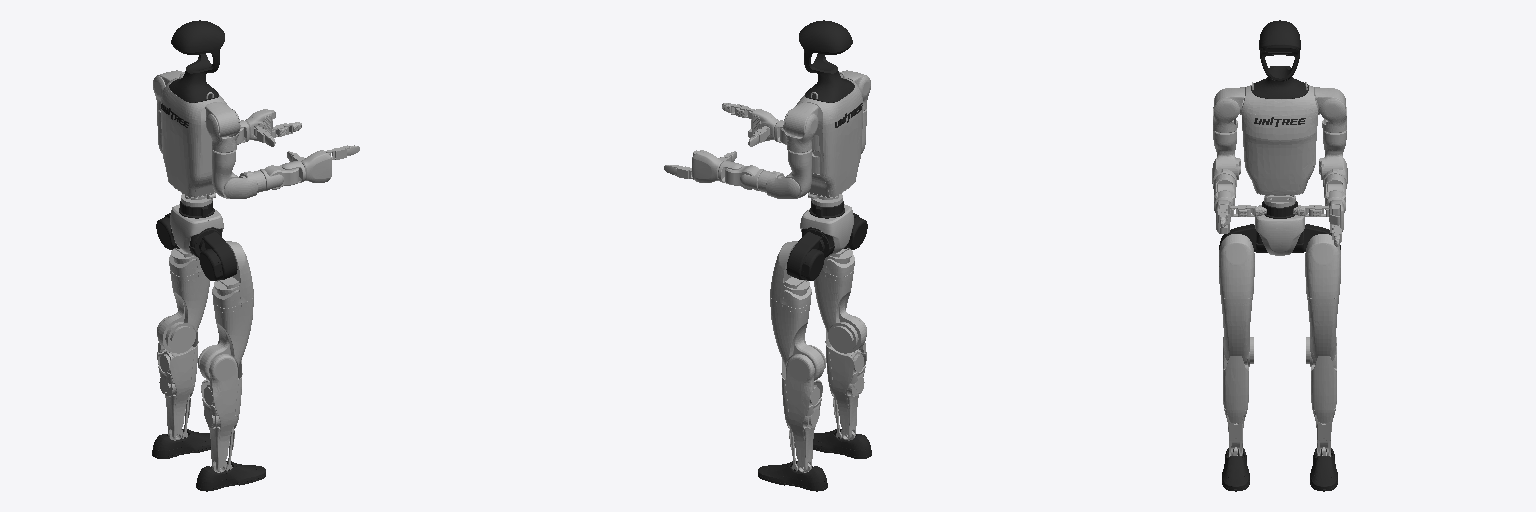
--- Facts derived from the render (not from the file) ---
3 views of the same robot in one strip: view 1: azimuth 30°, elevation 25°; view 2: azimuth 150°, elevation 25°; view 3: azimuth 270°, elevation 25° (orthographic).
Robot: g1 — 53 links, 52 joints (43 revolute, 9 fixed); root link pelvis; default pose: every joint at zero.
Visible links, largest first — view 1: torso_link, right_knee_link, head_link, left_knee_link, left_hip_yaw_link, right_hip_yaw_link, right_hip_roll_link, right_hip_pitch_link, right_ankle_roll_link, pelvis_contour_link, left_ankle_roll_link, right_elbow_link (+7 smaller); view 2: torso_link, left_knee_link, head_link, right_knee_link, right_hip_yaw_link, left_hip_yaw_link, left_hip_roll_link, left_hip_pitch_link, left_ankle_roll_link, pelvis_contour_link, right_ankle_roll_link, left_elbow_link (+7 smaller); view 3: torso_link, head_link, right_hip_roll_link, left_hip_roll_link, left_knee_link, right_knee_link, left_hip_yaw_link, right_hip_yaw_link, pelvis_contour_link, left_ankle_roll_link, right_ankle_roll_link, left_shoulder_yaw_link (+4 smaller).
Link boxes in pixels (x1,y1,x2,y2): torso_link: (161, 72, 227, 197); right_knee_link: (201, 354, 242, 472); head_link: (169, 20, 224, 102); left_knee_link: (157, 316, 198, 439); left_hip_yaw_link: (158, 270, 209, 353); right_hip_yaw_link: (198, 297, 253, 380); right_hip_roll_link: (212, 241, 253, 308); right_hip_pitch_link: (199, 232, 237, 280); right_ankle_roll_link: (196, 461, 265, 491); pelvis_contour_link: (170, 204, 223, 255); left_ankle_roll_link: (152, 429, 210, 458); right_elbow_link: (224, 170, 265, 198); torso_link: (796, 72, 862, 197); left_knee_link: (781, 354, 822, 472); head_link: (799, 20, 854, 102); right_knee_link: (825, 316, 866, 439); right_hip_yaw_link: (814, 270, 865, 353); left_hip_yaw_link: (770, 297, 825, 380); left_hip_roll_link: (770, 241, 811, 308); left_hip_pitch_link: (786, 232, 824, 280); left_ankle_roll_link: (758, 461, 827, 491); pelvis_contour_link: (800, 204, 853, 255); right_ankle_roll_link: (813, 429, 871, 458); left_elbow_link: (758, 170, 799, 198); torso_link: (1240, 82, 1319, 195); head_link: (1251, 20, 1308, 98); right_hip_roll_link: (1219, 234, 1254, 298); left_hip_roll_link: (1305, 234, 1340, 298); left_knee_link: (1311, 337, 1336, 456); right_knee_link: (1223, 337, 1248, 456); left_hip_yaw_link: (1306, 297, 1338, 366); right_hip_yaw_link: (1221, 297, 1253, 366); pelvis_contour_link: (1255, 205, 1304, 255); left_ankle_roll_link: (1310, 448, 1337, 491); right_ankle_roll_link: (1222, 448, 1249, 491); left_shoulder_yaw_link: (1319, 130, 1346, 179).
Size in the robot's own frame: 0.4893 by 0.3632 by 1.32 metres.
45 mesh visuals loaded from 49 distinct referenced files (45 binary STL); not drawn: 4 (reference not matched to a file when rendering).

The robot description file, URDF, robot "g1":
<robot name="g1">
  <mujoco>
    <compiler meshdir="meshes" discardvisual="false"/>
  </mujoco>

  <!-- [CAUTION] uncomment when convert to mujoco -->
  <!-- <link name="world"></link>
  <joint name="floating_base_joint" type="floating">
    <parent link="world"/>
    <child link="pelvis"/>
  </joint> -->

  <link name="pelvis">
    <inertial>
      <origin xyz="0 0 -0.07605" rpy="0 0 0"/>
      <mass value="3.813"/>
      <inertia ixx="0.010549" ixy="0" ixz="2.1E-06" iyy="0.0093089" iyz="0" izz="0.0079184"/>
    </inertial>
    <visual>
      <origin xyz="0 0 0" rpy="0 0 0"/>
      <geometry>
        <mesh filename="meshes/pelvis.STL"/>
      </geometry>
      <material name="dark">
        <color rgba="0.2 0.2 0.2 1"/>
      </material>
    </visual>
  </link>
  <link name="pelvis_contour_link">
    <inertial>
      <origin xyz="0 0 0" rpy="0 0 0"/>
      <mass value="0.001"/>
      <inertia ixx="1e-7" ixy="0" ixz="0" iyy="1e-7" iyz="0" izz="1e-7"/>
    </inertial>
    <visual>
      <origin xyz="0 0 0" rpy="0 0 0"/>
      <geometry>
        <mesh filename="meshes/pelvis_contour_link.STL"/>
      </geometry>
      <material name="white">
        <color rgba="0.7 0.7 0.7 1"/>
      </material>
    </visual>
    <collision>
      <origin xyz="0 0 0" rpy="0 0 0"/>
      <geometry>
        <mesh filename="meshes/pelvis_contour_link.STL"/>
      </geometry>
    </collision>
  </link>
  <joint name="pelvis_contour_joint" type="fixed">
    <parent link="pelvis"/>
    <child link="pelvis_contour_link"/>
  </joint>

  <!-- Legs -->
  <link name="left_hip_pitch_link">
    <inertial>
      <origin xyz="0.002741 0.047791 -0.02606" rpy="0 0 0"/>
      <mass value="1.35"/>
      <inertia ixx="0.001811" ixy="3.68E-05" ixz="-3.44E-05" iyy="0.0014193" iyz="0.000171" izz="0.0012812"/>
    </inertial>
    <visual>
      <origin xyz="0 0 0" rpy="0 0 0"/>
      <geometry>
        <mesh filename="meshes/left_hip_pitch_link.STL"/>
      </geometry>
      <material name="dark">
        <color rgba="0.2 0.2 0.2 1"/>
      </material>
    </visual>
    <collision>
      <origin xyz="0 0 0" rpy="0 0 0"/>
      <geometry>
        <mesh filename="meshes/left_hip_pitch_link.STL"/>
      </geometry>
    </collision>
  </link>
  <joint name="left_hip_pitch_joint" type="revolute">
    <origin xyz="0 0.064452 -0.1027" rpy="0 0 0"/>
    <parent link="pelvis"/>
    <child link="left_hip_pitch_link"/>
    <axis xyz="0 1 0"/>
    <limit lower="-2.5307" upper="2.8798" effort="88" velocity="32"/>
  </joint>
  <link name="left_hip_roll_link">
    <inertial>
      <origin xyz="0.029812 -0.001045 -0.087934" rpy="0 0 0"/>
      <mass value="1.52"/>
      <inertia ixx="0.0023773" ixy="-3.8E-06" ixz="-0.0003908" iyy="0.0024123" iyz="1.84E-05" izz="0.0016595"/>
    </inertial>
    <visual>
      <origin xyz="0 0 0" rpy="0 0 0"/>
      <geometry>
        <mesh filename="meshes/left_hip_roll_link.STL"/>
      </geometry>
      <material name="white">
        <color rgba="0.7 0.7 0.7 1"/>
      </material>
    </visual>
    <collision>
      <origin xyz="0 0 0" rpy="0 0 0"/>
      <geometry>
        <mesh filename="meshes/left_hip_roll_link.STL"/>
      </geometry>
    </collision>
  </link>
  <joint name="left_hip_roll_joint" type="revolute">
    <origin xyz="0 0.052 -0.030465" rpy="0 -0.1749 0"/>
    <parent link="left_hip_pitch_link"/>
    <child link="left_hip_roll_link"/>
    <axis xyz="1 0 0"/>
    <limit lower="-0.5236" upper="2.9671" effort="139" velocity="20"/>
  </joint>
  <link name="left_hip_yaw_link">
    <inertial>
      <origin xyz="-0.057709 -0.010981 -0.15078" rpy="0 0 0"/>
      <mass value="1.702"/>
      <inertia ixx="0.0057774" ixy="-0.0005411" ixz="-0.0023948" iyy="0.0076124" iyz="-0.0007072" izz="0.003149"/>
    </inertial>
    <visual>
      <origin xyz="0 0 0" rpy="0 0 0"/>
      <geometry>
        <mesh filename="meshes/left_hip_yaw_link.STL"/>
      </geometry>
      <material name="white">
        <color rgba="0.7 0.7 0.7 1"/>
      </material>
    </visual>
    <collision>
      <origin xyz="0 0 0" rpy="0 0 0"/>
      <geometry>
        <mesh filename="meshes/left_hip_yaw_link.STL"/>
      </geometry>
    </collision>
  </link>
  <joint name="left_hip_yaw_joint" type="revolute">
    <origin xyz="0.025001 0 -0.12412" rpy="0 0 0"/>
    <parent link="left_hip_roll_link"/>
    <child link="left_hip_yaw_link"/>
    <axis xyz="0 0 1"/>
    <limit lower="-2.7576" upper="2.7576" effort="88" velocity="32"/>
  </joint>
  <link name="left_knee_link">
    <inertial>
      <origin xyz="0.005457 0.003964 -0.12074" rpy="0 0 0"/>
      <mass value="1.932"/>
      <inertia ixx="0.011329" ixy="4.82E-05" ixz="-4.49E-05" iyy="0.011277" iyz="-0.0007146" izz="0.0015168"/>
    </inertial>
    <visual>
      <origin xyz="0 0 0" rpy="0 0 0"/>
      <geometry>
        <mesh filename="meshes/left_knee_link.STL"/>
      </geometry>
      <material name="white">
        <color rgba="0.7 0.7 0.7 1"/>
      </material>
    </visual>
    <collision>
      <origin xyz="0 0 0" rpy="0 0 0"/>
      <geometry>
        <mesh filename="meshes/left_knee_link.STL"/>
      </geometry>
    </collision>
  </link>
  <joint name="left_knee_joint" type="revolute">
    <origin xyz="-0.078273 0.0021489 -0.17734" rpy="0 0.1749 0"/>
    <parent link="left_hip_yaw_link"/>
    <child link="left_knee_link"/>
    <axis xyz="0 1 0"/>
    <limit lower="-0.087267" upper="2.8798" effort="139" velocity="20"/>
  </joint>
  <link name="left_ankle_pitch_link">
    <inertial>
      <origin xyz="-0.007269 0 0.011137" rpy="0 0 0"/>
      <mass value="0.074"/>
      <inertia ixx="8.4E-06" ixy="0" ixz="-2.9E-06" iyy="1.89E-05" iyz="0" izz="1.26E-05"/>
    </inertial>
    <visual>
      <origin xyz="0 0 0" rpy="0 0 0"/>
      <geometry>
        <mesh filename="meshes/left_ankle_pitch_link.STL"/>
      </geometry>
      <material name="white">
        <color rgba="0.7 0.7 0.7 1"/>
      </material>
    </visual>
    <collision>
      <origin xyz="0 0 0" rpy="0 0 0"/>
      <geometry>
        <mesh filename="meshes/left_ankle_pitch_link.STL"/>
      </geometry>
    </collision>
  </link>
  <joint name="left_ankle_pitch_joint" type="revolute">
    <origin xyz="0 -9.4445E-05 -0.30001" rpy="0 0 0"/>
    <parent link="left_knee_link"/>
    <child link="left_ankle_pitch_link"/>
    <axis xyz="0 1 0"/>
    <limit lower="-0.87267" upper="0.5236" effort="50" velocity="37"/>
  </joint>
  <link name="left_ankle_roll_link">
    <inertial>
      <origin xyz="0.026505 0 -0.016425" rpy="0 0 0"/>
      <mass value="0.608"/>
      <inertia ixx="0.0002231" ixy="2E-07" ixz="8.91E-05" iyy="0.0016161" iyz="-1E-07" izz="0.0016667"/>
    </inertial>
    <visual>
      <origin xyz="0 0 0" rpy="0 0 0"/>
      <geometry>
        <mesh filename="meshes/left_ankle_roll_link.STL"/>
      </geometry>
      <material name="dark">
        <color rgba="0.2 0.2 0.2 1"/>
      </material>
    </visual>
    <collision>
      <origin xyz="-0.05 0.025 -0.03" rpy="0 0 0"/>
      <geometry>
        <sphere radius="0.005"/>
      </geometry>
    </collision>
    <collision>
      <origin xyz="-0.05 -0.025 -0.03" rpy="0 0 0"/>
      <geometry>
        <sphere radius="0.005"/>
      </geometry>
    </collision>
    <collision>
      <origin xyz="0.12 0.03 -0.03" rpy="0 0 0"/>
      <geometry>
        <sphere radius="0.005"/>
      </geometry>
    </collision>
    <collision>
      <origin xyz="0.12 -0.03 -0.03" rpy="0 0 0"/>
      <geometry>
        <sphere radius="0.005"/>
      </geometry>
    </collision>
  </link>
  <joint name="left_ankle_roll_joint" type="revolute">
    <origin xyz="0 0 -0.017558" rpy="0 0 0"/>
    <parent link="left_ankle_pitch_link"/>
    <child link="left_ankle_roll_link"/>
    <axis xyz="1 0 0"/>
    <limit lower="-0.2618" upper="0.2618" effort="50" velocity="37"/>
  </joint>
  <link name="right_hip_pitch_link">
    <inertial>
      <origin xyz="0.002741 -0.047791 -0.02606" rpy="0 0 0"/>
      <mass value="1.35"/>
      <inertia ixx="0.001811" ixy="-3.68E-05" ixz="-3.44E-05" iyy="0.0014193" iyz="-0.000171" izz="0.0012812"/>
    </inertial>
    <visual>
      <origin xyz="0 0 0" rpy="0 0 0"/>
      <geometry>
        <mesh filename="meshes/right_hip_pitch_link.STL"/>
      </geometry>
      <material name="dark">
        <color rgba="0.2 0.2 0.2 1"/>
      </material>
    </visual>
    <collision>
      <origin xyz="0 0 0" rpy="0 0 0"/>
      <geometry>
        <mesh filename="meshes/right_hip_pitch_link.STL"/>
      </geometry>
    </collision>
  </link>
  <joint name="right_hip_pitch_joint" type="revolute">
    <origin xyz="0 -0.064452 -0.1027" rpy="0 0 0"/>
    <parent link="pelvis"/>
    <child link="right_hip_pitch_link"/>
    <axis xyz="0 1 0"/>
    <limit lower="-2.5307" upper="2.8798" effort="88" velocity="32"/>
  </joint>
  <link name="right_hip_roll_link">
    <inertial>
      <origin xyz="0.029812 0.001045 -0.087934" rpy="0 0 0"/>
      <mass value="1.52"/>
      <inertia ixx="0.0023773" ixy="3.8E-06" ixz="-0.0003908" iyy="0.0024123" iyz="-1.84E-05" izz="0.0016595"/>
    </inertial>
    <visual>
      <origin xyz="0 0 0" rpy="0 0 0"/>
      <geometry>
        <mesh filename="meshes/right_hip_roll_link.STL"/>
      </geometry>
      <material name="white">
        <color rgba="0.7 0.7 0.7 1"/>
      </material>
    </visual>
    <collision>
      <origin xyz="0 0 0" rpy="0 0 0"/>
      <geometry>
        <mesh filename="meshes/right_hip_roll_link.STL"/>
      </geometry>
    </collision>
  </link>
  <joint name="right_hip_roll_joint" type="revolute">
    <origin xyz="0 -0.052 -0.030465" rpy="0 -0.1749 0"/>
    <parent link="right_hip_pitch_link"/>
    <child link="right_hip_roll_link"/>
    <axis xyz="1 0 0"/>
    <limit lower="-2.9671" upper="0.5236" effort="139" velocity="20"/>
  </joint>
  <link name="right_hip_yaw_link">
    <inertial>
      <origin xyz="-0.057709 0.010981 -0.15078" rpy="0 0 0"/>
      <mass value="1.702"/>
      <inertia ixx="0.0057774" ixy="0.0005411" ixz="-0.0023948" iyy="0.0076124" iyz="0.0007072" izz="0.003149"/>
    </inertial>
    <visual>
      <origin xyz="0 0 0" rpy="0 0 0"/>
      <geometry>
        <mesh filename="meshes/right_hip_yaw_link.STL"/>
      </geometry>
      <material name="white">
        <color rgba="0.7 0.7 0.7 1"/>
      </material>
    </visual>
    <collision>
      <origin xyz="0 0 0" rpy="0 0 0"/>
      <geometry>
        <mesh filename="meshes/right_hip_yaw_link.STL"/>
      </geometry>
    </collision>
  </link>
  <joint name="right_hip_yaw_joint" type="revolute">
    <origin xyz="0.025001 0 -0.12412" rpy="0 0 0"/>
    <parent link="right_hip_roll_link"/>
    <child link="right_hip_yaw_link"/>
    <axis xyz="0 0 1"/>
    <limit lower="-2.7576" upper="2.7576" effort="88" velocity="32"/>
  </joint>
  <link name="right_knee_link">
    <inertial>
      <origin xyz="0.005457 -0.003964 -0.12074" rpy="0 0 0"/>
      <mass value="1.932"/>
      <inertia ixx="0.011329" ixy="-4.82E-05" ixz="4.49E-05" iyy="0.011277" iyz="0.0007146" izz="0.0015168"/>
    </inertial>
    <visual>
      <origin xyz="0 0 0" rpy="0 0 0"/>
      <geometry>
        <mesh filename="meshes/right_knee_link.STL"/>
      </geometry>
      <material name="white">
        <color rgba="0.7 0.7 0.7 1"/>
      </material>
    </visual>
    <collision>
      <origin xyz="0 0 0" rpy="0 0 0"/>
      <geometry>
        <mesh filename="meshes/right_knee_link.STL"/>
      </geometry>
    </collision>
  </link>
  <joint name="right_knee_joint" type="revolute">
    <origin xyz="-0.078273 -0.0021489 -0.17734" rpy="0 0.1749 0"/>
    <parent link="right_hip_yaw_link"/>
    <child link="right_knee_link"/>
    <axis xyz="0 1 0"/>
    <limit lower="-0.087267" upper="2.8798" effort="139" velocity="20"/>
  </joint>
  <link name="right_ankle_pitch_link">
    <inertial>
      <origin xyz="-0.007269 0 0.011137" rpy="0 0 0"/>
      <mass value="0.074"/>
      <inertia ixx="8.4E-06" ixy="0" ixz="-2.9E-06" iyy="1.89E-05" iyz="0" izz="1.26E-05"/>
    </inertial>
    <visual>
      <origin xyz="0 0 0" rpy="0 0 0"/>
      <geometry>
        <mesh filename="meshes/right_ankle_pitch_link.STL"/>
      </geometry>
      <material name="white">
        <color rgba="0.7 0.7 0.7 1"/>
      </material>
    </visual>
    <collision>
      <origin xyz="0 0 0" rpy="0 0 0"/>
      <geometry>
        <mesh filename="meshes/right_ankle_pitch_link.STL"/>
      </geometry>
    </collision>
  </link>
  <joint name="right_ankle_pitch_joint" type="revolute">
    <origin xyz="0 9.4445E-05 -0.30001" rpy="0 0 0"/>
    <parent link="right_knee_link"/>
    <child link="right_ankle_pitch_link"/>
    <axis xyz="0 1 0"/>
    <limit lower="-0.87267" upper="0.5236" effort="50" velocity="37"/>
  </joint>
  <link name="right_ankle_roll_link">
    <inertial>
      <origin xyz="0.026505 0 -0.016425" rpy="0 0 0"/>
      <mass value="0.608"/>
      <inertia ixx="0.0002231" ixy="-2E-07" ixz="8.91E-05" iyy="0.0016161" iyz="1E-07" izz="0.0016667"/>
    </inertial>
    <visual>
      <origin xyz="0 0 0" rpy="0 0 0"/>
      <geometry>
        <mesh filename="meshes/right_ankle_roll_link.STL"/>
      </geometry>
      <material name="dark">
        <color rgba="0.2 0.2 0.2 1"/>
      </material>
    </visual>
    <collision>
      <origin xyz="-0.05 0.025 -0.03" rpy="0 0 0"/>
      <geometry>
        <sphere radius="0.005"/>
      </geometry>
    </collision>
    <collision>
      <origin xyz="-0.05 -0.025 -0.03" rpy="0 0 0"/>
      <geometry>
        <sphere radius="0.005"/>
      </geometry>
    </collision>
    <collision>
      <origin xyz="0.12 0.03 -0.03" rpy="0 0 0"/>
      <geometry>
        <sphere radius="0.005"/>
      </geometry>
    </collision>
    <collision>
      <origin xyz="0.12 -0.03 -0.03" rpy="0 0 0"/>
      <geometry>
        <sphere radius="0.005"/>
      </geometry>
    </collision>
  </link>
  <joint name="right_ankle_roll_joint" type="revolute">
    <origin xyz="0 0 -0.017558" rpy="0 0 0"/>
    <parent link="right_ankle_pitch_link"/>
    <child link="right_ankle_roll_link"/>
    <axis xyz="1 0 0"/>
    <limit lower="-0.2618" upper="0.2618" effort="50" velocity="37"/>
  </joint>

  <!-- Torso -->
  <link name="waist_yaw_link">
    <inertial>
      <origin xyz="0.003494 0.000233 0.018034" rpy="0 0 0"/>
      <mass value="0.214"/>
      <inertia ixx="0.00010673" ixy="2.703E-06" ixz="-7.631E-06" iyy="0.00010422" iyz="-2.01E-07" izz="0.0001625"/>
    </inertial>
    <visual>
      <origin xyz="0 0 0" rpy="0 0 0"/>
      <geometry>
        <mesh filename="meshes/waist_yaw_link_rev_1_0.STL"/>
      </geometry>
      <material name="white">
        <color rgba="0.7 0.7 0.7 1"/>
      </material>
    </visual>
  </link>
  <joint name="waist_yaw_joint" type="revolute">
    <origin xyz="0 0 0" rpy="0 0 0"/>
    <parent link="pelvis"/>
    <child link="waist_yaw_link"/>
    <axis xyz="0 0 1"/>
    <limit lower="-2.618" upper="2.618" effort="88" velocity="32"/>
  </joint>
  <link name="waist_roll_link">
    <inertial>
      <origin xyz="0 2.3E-05 0" rpy="0 0 0"/>
      <mass value="0.086"/>
      <inertia ixx="7.079E-06" ixy="0" ixz="0" iyy="6.339E-06" iyz="0" izz="8.245E-06"/>
    </inertial>
    <visual>
      <origin xyz="0 0 0" rpy="0 0 0"/>
      <geometry>
        <mesh filename="meshes/waist_roll_link_rev_1_0.STL"/>
      </geometry>
      <material name="white">
        <color rgba="0.7 0.7 0.7 1"/>
      </material>
    </visual>
  </link>
  <joint name="waist_roll_joint" type="revolute">
    <origin xyz="-0.0039635 0 0.044" rpy="0 0 0"/>
    <parent link="waist_yaw_link"/>
    <child link="waist_roll_link"/>
    <axis xyz="1 0 0"/>
    <limit lower="-0.52" upper="0.52" effort="50" velocity="37"/>
  </joint>
  <link name="torso_link">
    <inertial>
      <origin xyz="0.000931 0.000346 0.15082" rpy="0 0 0"/>
      <mass value="6.78"/>
      <inertia ixx="0.05905" ixy="3.3302E-05" ixz="-0.0017715" iyy="0.047014" iyz="-2.2399E-05" izz="0.025652"/>
    </inertial>
    <visual>
      <origin xyz="0 0 0" rpy="0 0 0"/>
      <geometry>
        <mesh filename="meshes/torso_link_rev_1_0.STL"/>
      </geometry>
      <material name="white">
        <color rgba="0.7 0.7 0.7 1"/>
      </material>
    </visual>
    <collision>
      <origin xyz="0 0 0" rpy="0 0 0"/>
      <geometry>
        <mesh filename="meshes/torso_link_rev_1_0.STL"/>
      </geometry>
    </collision>
  </link>
  <joint name="waist_pitch_joint" type="revolute">
    <origin xyz="0 0 0" rpy="0 0 0"/>
    <parent link="waist_roll_link"/>
    <child link="torso_link"/>
    <axis xyz="0 1 0"/>
    <limit lower="-0.52" upper="0.52" effort="50" velocity="37"/>
  </joint>

  <!-- LOGO -->
  <joint name="logo_joint" type="fixed">
    <origin xyz="0.0039635 0 -0.044" rpy="0 0 0"/>
    <parent link="torso_link"/>
    <child link="logo_link"/>
  </joint>
  <link name="logo_link">
    <inertial>
      <origin xyz="0 0 0" rpy="0 0 0"/>
      <mass value="0.001"/>
      <inertia ixx="1e-7" ixy="0" ixz="0" iyy="1e-7" iyz="0" izz="1e-7"/>
    </inertial>
    <visual>
      <origin xyz="0 0 0" rpy="0 0 0"/>
      <geometry>
        <mesh filename="meshes/logo_link.STL"/>
      </geometry>
      <material name="dark">
        <color rgba="0.2 0.2 0.2 1"/>
      </material>
    </visual>
    <collision>
      <origin xyz="0 0 0" rpy="0 0 0"/>
      <geometry>
        <mesh filename="meshes/logo_link.STL"/>
      </geometry>
    </collision>
  </link>

  <!-- Head -->
  <link name="head_link">
    <inertial>
      <origin xyz="0.005267 0.000299 0.449869" rpy="0 0 0"/>
      <mass value="1.036"/>
      <inertia ixx="0.004085051" ixy="-2.543E-06" ixz="-6.9455E-05" iyy="0.004185212" iyz="-3.726E-06" izz="0.001807911"/>
    </inertial>
    <visual>
      <origin xyz="0 0 0" rpy="0 0 0"/>
      <geometry>
        <mesh filename="meshes/head_link.STL"/>
      </geometry>
      <material name="dark">
        <color rgba="0.2 0.2 0.2 1"/>
      </material>
    </visual>
    <collision>
      <origin xyz="0 0 0" rpy="0 0 0"/>
      <geometry>
        <mesh filename="meshes/head_link.STL"/>
      </geometry>
    </collision>
  </link>
  <joint name="head_joint" type="fixed">
    <origin xyz="0.0039635 0 -0.044" rpy="0 0 0"/>
    <parent link="torso_link"/>
    <child link="head_link"/>
  </joint>


  <!-- IMU -->
  <link name="imu_in_torso"></link>
  <joint name="imu_in_torso_joint" type="fixed">
    <origin xyz="-0.03959 -0.00224 0.14792" rpy="0 0 0"/>
    <parent link="torso_link"/>
    <child link="imu_in_torso"/>
  </joint>

  <link name="imu_in_pelvis"></link>
  <joint name="imu_in_pelvis_joint" type="fixed">
    <origin xyz="0.04525 0 -0.08339" rpy="0 0 0"/>
    <parent link="pelvis"/>
    <child link="imu_in_pelvis"/>
  </joint>

  <!-- d435 -->
  <link name="d435_link"></link>
  <joint name="d435_joint" type="fixed">
    <origin xyz="0.0576235 0.01753 0.42987" rpy="0 0.8307767239493009 0"/>
    <parent link="torso_link"/>
    <child link="d435_link"/>
  </joint>

  <!-- mid360 -->
  <link name="mid360_link"></link>
  <joint name="mid360_joint" type="fixed">
    <origin xyz="0.0002835 0.00003 0.41618" rpy="0 0.04014257279586953 0"/>
    <parent link="torso_link"/>
    <child link="mid360_link"/>
  </joint>

  <!-- Arm -->
  <link name="left_shoulder_pitch_link">
    <inertial>
      <origin xyz="0 0.035892 -0.011628" rpy="0 0 0"/>
      <mass value="0.718"/>
      <inertia ixx="0.0004291" ixy="-9.2E-06" ixz="6.4E-06" iyy="0.000453" iyz="2.26E-05" izz="0.000423"/>
    </inertial>
    <visual>
      <origin xyz="0 0 0" rpy="0 0 0"/>
      <geometry>
        <mesh filename="meshes/left_shoulder_pitch_link.STL"/>
      </geometry>
      <material name="white">
        <color rgba="0.7 0.7 0.7 1"/>
      </material>
    </visual>
    <collision>
      <origin xyz="0 0.04 -0.01" rpy="0 1.5707963267948966 0"/>
      <geometry>
        <cylinder radius="0.03" length="0.05"/>
      </geometry>
    </collision>
  </link>
  <joint name="left_shoulder_pitch_joint" type="revolute">
    <origin xyz="0.0039563 0.10022 0.24778" rpy="0.27931 5.4949E-05 -0.00019159"/>
    <parent link="torso_link"/>
    <child link="left_shoulder_pitch_link"/>
    <axis xyz="0 1 0"/>
    <limit lower="-3.0892" upper="2.6704" effort="25" velocity="37"/>
  </joint>
  <link name="left_shoulder_roll_link">
    <inertial>
      <origin xyz="-0.000227 0.00727 -0.063243" rpy="0 0 0"/>
      <mass value="0.643"/>
      <inertia ixx="0.0006177" ixy="-1E-06" ixz="8.7E-06" iyy="0.0006912" iyz="-5.3E-06" izz="0.0003894"/>
    </inertial>
    <visual>
      <origin xyz="0 0 0" rpy="0 0 0"/>
      <geometry>
        <mesh filename="meshes/left_shoulder_roll_link.STL"/>
      </geometry>
      <material name="white">
        <color rgba="0.7 0.7 0.7 1"/>
      </material>
    </visual>
    <collision>
      <origin xyz="-0.004 0.006 -0.053" rpy="0 0 0"/>
      <geometry>
        <cylinder radius="0.03" length="0.03"/>
      </geometry>
    </collision>
  </link>
  <joint name="left_shoulder_roll_joint" type="revolute">
    <origin xyz="0 0.038 -0.013831" rpy="-0.27925 0 0"/>
    <parent link="left_shoulder_pitch_link"/>
    <child link="left_shoulder_roll_link"/>
    <axis xyz="1 0 0"/>
    <limit lower="-1.5882" upper="2.2515" effort="25" velocity="37"/>
  </joint>
  <link name="left_shoulder_yaw_link">
    <inertial>
      <origin xyz="0.010773 -0.002949 -0.072009" rpy="0 0 0"/>
      <mass value="0.734"/>
      <inertia ixx="0.0009988" ixy="7.9E-06" ixz="0.0001412" iyy="0.0010605" iyz="-2.86E-05" izz="0.0004354"/>
    </inertial>
    <visual>
      <origin xyz="0 0 0" rpy="0 0 0"/>
      <geometry>
        <mesh filename="meshes/left_shoulder_yaw_link.STL"/>
      </geometry>
      <material name="white">
        <color rgba="0.7 0.7 0.7 1"/>
      </material>
    </visual>
    <collision>
      <origin xyz="0 0 0" rpy="0 0 0"/>
      <geometry>
        <mesh filename="meshes/left_shoulder_yaw_link.STL"/>
      </geometry>
    </collision>
  </link>
  <joint name="left_shoulder_yaw_joint" type="revolute">
    <origin xyz="0 0.00624 -0.1032" rpy="0 0 0"/>
    <parent link="left_shoulder_roll_link"/>
    <child link="left_shoulder_yaw_link"/>
    <axis xyz="0 0 1"/>
    <limit lower="-2.618" upper="2.618" effort="25" velocity="37"/>
  </joint>
  <link name="left_elbow_link">
    <inertial>
      <origin xyz="0.064956 0.004454 -0.010062" rpy="0 0 0"/>
      <mass value="0.6"/>
      <inertia ixx="0.0002891" ixy="6.53E-05" ixz="1.72E-05" iyy="0.0004152" iyz="-5.6E-06" izz="0.0004197"/>
    </inertial>
    <visual>
      <origin xyz="0 0 0" rpy="0 0 0"/>
      <geometry>
        <mesh filename="meshes/left_elbow_link.STL"/>
      </geometry>
      <material name="white">
        <color rgba="0.7 0.7 0.7 1"/>
      </material>
    </visual>
    <collision>
      <origin xyz="0 0 0" rpy="0 0 0"/>
      <geometry>
        <mesh filename="meshes/left_elbow_link.STL"/>
      </geometry>
    </collision>
  </link>
  <joint name="left_elbow_joint" type="revolute">
    <origin xyz="0.015783 0 -0.080518" rpy="0 0 0"/>
    <parent link="left_shoulder_yaw_link"/>
    <child link="left_elbow_link"/>
    <axis xyz="0 1 0"/>
    <limit lower="-1.0472" upper="2.0944" effort="25" velocity="37"/>
  </joint>
  <joint name="left_wrist_roll_joint" type="revolute">
    <origin xyz="0.100 0.00188791 -0.010" rpy="0 0 0"/>
    <axis xyz="1 0 0"/>
    <parent link="left_elbow_link"/>
    <child link="left_wrist_roll_link"/>
    <limit effort="25" velocity="37" lower="-1.972222054" upper="1.972222054"/>
  </joint>
  <link name="left_wrist_roll_link">
    <inertial>
      <origin xyz="0.01713944778 0.00053759094 0.00000048864" rpy="0 0 0"/>
      <mass value="0.08544498"/>
      <inertia ixx="0.00004821544023" ixy="-0.00000424511021" ixz="0.00000000510599" iyy="0.00003722899093" iyz="-0.00000000123525" izz="0.00005482106541"/>
    </inertial>
    <visual>
      <origin xyz="0 0 0" rpy="0 0 0"/>
      <geometry>
        <mesh filename="meshes/left_wrist_roll_link.STL"/>
      </geometry>
      <material name="white">
        <color rgba="0.7 0.7 0.7 1"/>
      </material>
    </visual>
    <collision>
      <origin xyz="0 0 0" rpy="0 0 0"/>
      <geometry>
        <mesh filename="meshes/left_wrist_roll_link.STL"/>
      </geometry>
    </collision>
  </link>
  <joint name="left_wrist_pitch_joint" type="revolute">
    <origin xyz="0.038 0 0" rpy="0 0 0"/>
    <axis xyz="0 1 0"/>
    <parent link="left_wrist_roll_link"/>
    <child link="left_wrist_pitch_link"/>
    <limit effort="5" velocity="22" lower="-1.614429558" upper="1.614429558"/>
  </joint>
  <link name="left_wrist_pitch_link">
    <inertial>
      <origin xyz="0.02299989837 -0.00111685314 -0.00111658096" rpy="0 0 0"/>
      <mass value="0.48404956"/>
      <inertia ixx="0.00016579646273" ixy="-0.00001231206746" ixz="0.00001231699194" iyy="0.00042954057410" iyz="0.00000081417712" izz="0.00042953697654"/>
    </inertial>
    <visual>
      <origin xyz="0 0 0" rpy="0 0 0"/>
      <geometry>
        <mesh filename="meshes/left_wrist_pitch_link.STL"/>
      </geometry>
      <material name="white">
        <color rgba="0.7 0.7 0.7 1"/>
      </material>
    </visual>
    <collision>
      <origin xyz="0 0 0" rpy="0 0 0"/>
      <geometry>
        <mesh filename="meshes/left_wrist_pitch_link.STL"/>
      </geometry>
    </collision>
  </link>
  <joint name="left_wrist_yaw_joint" type="revolute">
    <origin xyz="0.046 0 0" rpy="0 0 0"/>
    <axis xyz="0 0 1"/>
    <parent link="left_wrist_pitch_link"/>
    <child link="left_wrist_yaw_link"/>
    <limit effort="5" velocity="22" lower="-1.614429558" upper="1.614429558"/>
  </joint>
  <link name="left_wrist_yaw_link">
    <inertial>
      <origin xyz="0.02200381568 0.00049485096 0.00053861123" rpy="0 0 0"/>
      <mass value="0.08457647"/>
      <inertia ixx="0.00004929128828" ixy="-0.00000045735494" ixz="0.00000445867591" iyy="0.00005973338134" iyz="0.00000043217198" izz="0.00003928083826"/>
    </inertial>
    <visual>
      <origin xyz="0 0 0" rpy="0 0 0"/>
      <geometry>
        <mesh filename="meshes/left_wrist_yaw_link.STL"/>
      </geometry>
      <material name="white">
        <color rgba="0.7 0.7 0.7 1"/>
      </material>
    </visual>
    <collision>
      <origin xyz="0 0 0" rpy="0 0 0"/>
      <geometry>
        <mesh filename="meshes/left_wrist_yaw_link.STL"/>
      </geometry>
    </collision>
  </link>
  <joint name="left_hand_palm_joint" type="fixed">
    <origin xyz="0.0415 0.003 0" rpy="0 0 0"/>
    <parent link="left_wrist_yaw_link"/>
    <child link="left_hand_palm_link"/>
  </joint>
  <link name="left_hand_palm_link">
    <inertial>
      <origin xyz="0.06214634836 -0.00050869656 -0.00058171093" rpy="0 0 0"/>
      <mass value="0.37283854"/>
      <inertia ixx="0.00027535181027" ixy="-0.00001595519465" ixz="-0.00000242161890" iyy="0.00053951827219" iyz="-0.00000042279435" izz="0.00039623390907"/>
    </inertial>
    <visual>
      <origin xyz="0 0 0" rpy="0 0 0"/>
      <geometry>
        <mesh filename="meshes/left_hand_palm_link.STL"/>
      </geometry>
      <material name="white">
        <color rgba="0.7 0.7 0.7 1"/>
      </material>
    </visual>
    <collision>
      <origin xyz="0 0 0" rpy="0 0 0"/>
      <geometry>
        <mesh filename="meshes/left_hand_palm_link.STL"/>
      </geometry>
    </collision>
  </link>
  <joint name="left_hand_thumb_0_joint" type="revolute">
    <origin xyz="0.0255 0 0" rpy="0 0 0"/>
    <axis xyz="0 1 0"/>
    <parent link="left_hand_palm_link"/>
    <child link="left_hand_thumb_0_link"/>
    <limit effort="2.45" velocity="6.857" lower="-1.04719755" upper="1.04719755"/>
  </joint>
  <link name="left_hand_thumb_0_link">
    <inertial>
      <origin xyz="-0.00088424580 -0.00863407079 0.00094429336" rpy="0 0 0"/>
      <mass value="0.08623657"/>
      <inertia ixx="0.00001602919238" ixy="0.00000010683177" ixz="0.00000016728875" iyy="0.00001451795012" iyz="-0.00000051094752" izz="0.00001637877663"/>
    </inertial>
    <visual>
      <origin xyz="0 0 0" rpy="0 0 0"/>
      <geometry>
        <mesh filename="meshes/left_hand_thumb_0_link.STL"/>
      </geometry>
      <material name="white">
        <color rgba="0.7 0.7 0.7 1"/>
      </material>
    </visual>
    <collision>
      <origin xyz="0 0 0" rpy="0 0 0"/>
      <geometry>
        <mesh filename="meshes/left_hand_thumb_0_link.STL"/>
      </geometry>
    </collision>
  </link>
  <joint name="left_hand_thumb_1_joint" type="revolute">
    <origin xyz="-0.0025 -0.0193 0" rpy="0 0 0"/>
    <axis xyz="0 0 1"/>
    <parent link="left_hand_thumb_0_link"/>
    <child link="left_hand_thumb_1_link"/>
    <limit effort="1.4" velocity="12" lower="-0.72431163" upper="1.04719755"/>
  </joint>
  <link name="left_hand_thumb_1_link">
    <inertial>
      <origin xyz="-0.00082788768 -0.03547435774 -0.00038089960" rpy="0 0 0"/>
      <mass value="0.05885070"/>
      <inertia ixx="0.00001274699945" ixy="-0.00000050770784" ixz="0.00000016088850" iyy="0.00000601573947" iyz="-0.00000027839003" izz="0.00001234543582"/>
    </inertial>
    <visual>
      <origin xyz="0 0 0" rpy="0 0 0"/>
      <geometry>
        <mesh filename="meshes/left_hand_thumb_1_link.STL"/>
      </geometry>
      <material name="white">
        <color rgba="0.7 0.7 0.7 1"/>
      </material>
    </visual>
    <collision>
      <origin xyz="-0.001 -0.032 0" rpy="0 0 0"/>
      <geometry>
        <box size="0.02 0.03 0.02"/>
      </geometry>
    </collision>
  </link>
  <joint name="left_hand_thumb_2_joint" type="revolute">
    <origin xyz="0 -0.0458 0" rpy="0 0 0"/>
    <axis xyz="0 0 1"/>
    <parent link="left_hand_thumb_1_link"/>
    <child link="left_hand_thumb_2_link"/>
    <limit effort="1.4" velocity="12" lower="0" upper="1.74532925"/>
  </joint>
  <link name="left_hand_thumb_2_link">
    <inertial>
      <origin xyz="-0.00171735242 -0.02628192939 0.00010778879" rpy="0 0 0"/>
      <mass value="0.02030626"/>
      <inertia ixx="0.00000461267817" ixy="-0.00000003422130" ixz="-0.00000000823881" iyy="0.00000153561368" iyz="-0.00000002549885" izz="0.00000386625776"/>
    </inertial>
    <visual>
      <origin xyz="0 0 0" rpy="0 0 0"/>
      <geometry>
        <mesh filename="meshes/left_hand_thumb_2_link.STL"/>
      </geometry>
      <material name="white">
        <color rgba="0.7 0.7 0.7 1"/>
      </material>
    </visual>
    <collision>
      <origin xyz="0 0 0" rpy="0 0 0"/>
      <geometry>
        <mesh filename="meshes/left_hand_thumb_2_link.STL"/>
      </geometry>
    </collision>
  </link>
  <joint name="left_hand_middle_0_joint" type="revolute">
    <origin xyz="0.0777 0.0016 -0.0285" rpy="0 0 0"/>
    <axis xyz="0 0 1"/>
    <parent link="left_hand_palm_link"/>
    <child link="left_hand_middle_0_link"/>
    <limit effort="1.4" velocity="12" lower="-1.57079632" upper="0"/>
  </joint>
  <link name="left_hand_middle_0_link">
    <inertial>
      <origin xyz="0.03547435774 0.00082788768 0.00038089960" rpy="0 0 0"/>
      <mass value="0.05885070"/>
      <inertia ixx="0.00000601573947" ixy="-0.00000050770784" ixz="-0.00000027839003" iyy="0.00001274699945" iyz="0.00000016088850" izz="0.00001234543582"/>
    </inertial>
    <visual>
      <origin xyz="0 0 0" rpy="0 0 0"/>
      <geometry>
        <mesh filename="meshes/left_hand_middle_0_link.STL"/>
      </geometry>
      <material name="white">
        <color rgba="0.7 0.7 0.7 1"/>
      </material>
    </visual>
    <collision>
      <origin xyz="0 0 0" rpy="0 0 0"/>
      <geometry>
        <mesh filename="meshes/left_hand_middle_0_link.STL"/>
      </geometry>
    </collision>
  </link>
  <joint name="left_hand_middle_1_joint" type="revolute">
    <origin xyz="0.0458 0 0" rpy="0 0 0"/>
    <axis xyz="0 0 1"/>
    <parent link="left_hand_middle_0_link"/>
    <child link="left_hand_middle_1_link"/>
    <limit effort="1.4" velocity="12" lower="-1.74532925" upper="0"/>
  </joint>
  <link name="left_hand_middle_1_link">
    <inertial>
      <origin xyz="0.02628192939 0.00171735242 -0.00010778879" rpy="0 0 0"/>
      <mass value="0.02030626"/>
      <inertia ixx="0.00000153561368" ixy="-0.00000003422130" ixz="-0.00000002549885" iyy="0.00000461267817" iyz="-0.00000000823881" izz="0.00000386625776"/>
    </inertial>
    <visual>
      <origin xyz="0 0 0" rpy="0 0 0"/>
      <geometry>
        <mesh filename="meshes/left_hand_middle_1_link.STL"/>
      </geometry>
      <material name="white">
        <color rgba="0.7 0.7 0.7 1"/>
      </material>
    </visual>
    <collision>
      <origin xyz="0 0 0" rpy="0 0 0"/>
      <geometry>
        <mesh filename="meshes/left_hand_middle_1_link.STL"/>
      </geometry>
    </collision>
  </link>
  <joint name="left_hand_index_0_joint" type="revolute">
    <origin xyz="0.0777 0.0016 0.0285" rpy="0 0 0"/>
    <axis xyz="0 0 1"/>
    <parent link="left_hand_palm_link"/>
    <child link="left_hand_index_0_link"/>
    <limit effort="1.4" velocity="12" lower="-1.57079632" upper="0"/>
  </joint>
  <link name="left_hand_index_0_link">
    <inertial>
      <origin xyz="0.03547435774 0.00082788768 0.00038089960" rpy="0 0 0"/>
      <mass value="0.05885070"/>
      <inertia ixx="0.00000601573947" ixy="-0.00000050770784" ixz="-0.00000027839003" iyy="0.00001274699945" iyz="0.00000016088850" izz="0.00001234543582"/>
    </inertial>
    <visual>
      <origin xyz="0 0 0" rpy="0 0 0"/>
      <geometry>
        <mesh filename="meshes/left_hand_index_0_link.STL"/>
      </geometry>
      <material name="white">
        <color rgba="0.7 0.7 0.7 1"/>
      </material>
    </visual>
    <collision>
      <origin xyz="0 0 0" rpy="0 0 0"/>
      <geometry>
        <mesh filename="meshes/left_hand_index_0_link.STL"/>
      </geometry>
    </collision>
  </link>
  <joint name="left_hand_index_1_joint" type="revolute">
    <origin xyz="0.0458 0 0" rpy="0 0 0"/>
    <axis xyz="0 0 1"/>
    <parent link="left_hand_index_0_link"/>
    <child link="left_hand_index_1_link"/>
    <limit effort="1.4" velocity="12" lower="-1.74532925" upper="0"/>
  </joint>
  <link name="left_hand_index_1_link">
    <inertial>
      <origin xyz="0.02628192939 0.00171735242 -0.00010778879" rpy="0 0 0"/>
      <mass value="0.02030626"/>
      <inertia ixx="0.00000153561368" ixy="-0.00000003422130" ixz="-0.00000002549885" iyy="0.00000461267817" iyz="-0.00000000823881" izz="0.00000386625776"/>
    </inertial>
    <visual>
      <origin xyz="0 0 0" rpy="0 0 0"/>
      <geometry>
        <mesh filename="meshes/left_hand_index_1_link.STL"/>
      </geometry>
      <material name="white">
        <color rgba="0.7 0.7 0.7 1"/>
      </material>
    </visual>
    <collision>
      <origin xyz="0 0 0" rpy="0 0 0"/>
      <geometry>
        <mesh filename="meshes/left_hand_index_1_link.STL"/>
      </geometry>
    </collision>
  </link>
  <link name="right_shoulder_pitch_link">
    <inertial>
      <origin xyz="0 -0.035892 -0.011628" rpy="0 0 0"/>
      <mass value="0.718"/>
      <inertia ixx="0.0004291" ixy="9.2E-06" ixz="6.4E-06" iyy="0.000453" iyz="-2.26E-05" izz="0.000423"/>
    </inertial>
    <visual>
      <origin xyz="0 0 0" rpy="0 0 0"/>
      <geometry>
        <mesh filename="meshes/right_shoulder_pitch_link.STL"/>
      </geometry>
      <material name="white">
        <color rgba="0.7 0.7 0.7 1"/>
      </material>
    </visual>
    <collision>
      <origin xyz="0 -0.04 -0.01" rpy="0 1.5707963267948966 0"/>
      <geometry>
        <cylinder radius="0.03" length="0.05"/>
      </geometry>
    </collision>
  </link>
  <joint name="right_shoulder_pitch_joint" type="revolute">
    <origin xyz="0.0039563 -0.10021 0.24778" rpy="-0.27931 5.4949E-05 0.00019159"/>
    <parent link="torso_link"/>
    <child link="right_shoulder_pitch_link"/>
    <axis xyz="0 1 0"/>
    <limit lower="-3.0892" upper="2.6704" effort="25" velocity="37"/>
  </joint>
  <link name="right_shoulder_roll_link">
    <inertial>
      <origin xyz="-0.000227 -0.00727 -0.063243" rpy="0 0 0"/>
      <mass value="0.643"/>
      <inertia ixx="0.0006177" ixy="1E-06" ixz="8.7E-06" iyy="0.0006912" iyz="5.3E-06" izz="0.0003894"/>
    </inertial>
    <visual>
      <origin xyz="0 0 0" rpy="0 0 0"/>
      <geometry>
        <mesh filename="meshes/right_shoulder_roll_link.STL"/>
      </geometry>
      <material name="white">
        <color rgba="0.7 0.7 0.7 1"/>
      </material>
    </visual>
    <collision>
      <origin xyz="-0.004 -0.006 -0.053" rpy="0 0 0"/>
      <geometry>
        <cylinder radius="0.03" length="0.03"/>
      </geometry>
    </collision>
  </link>
  <joint name="right_shoulder_roll_joint" type="revolute">
    <origin xyz="0 -0.038 -0.013831" rpy="0.27925 0 0"/>
    <parent link="right_shoulder_pitch_link"/>
    <child link="right_shoulder_roll_link"/>
    <axis xyz="1 0 0"/>
    <limit lower="-2.2515" upper="1.5882" effort="25" velocity="37"/>
  </joint>
  <link name="right_shoulder_yaw_link">
    <inertial>
      <origin xyz="0.010773 0.002949 -0.072009" rpy="0 0 0"/>
      <mass value="0.734"/>
      <inertia ixx="0.0009988" ixy="-7.9E-06" ixz="0.0001412" iyy="0.0010605" iyz="2.86E-05" izz="0.0004354"/>
    </inertial>
    <visual>
      <origin xyz="0 0 0" rpy="0 0 0"/>
      <geometry>
        <mesh filename="meshes/right_shoulder_yaw_link.STL"/>
      </geometry>
      <material name="white">
        <color rgba="0.7 0.7 0.7 1"/>
      </material>
    </visual>
    <collision>
      <origin xyz="0 0 0" rpy="0 0 0"/>
      <geometry>
        <mesh filename="meshes/right_shoulder_yaw_link.STL"/>
      </geometry>
    </collision>
  </link>
  <joint name="right_shoulder_yaw_joint" type="revolute">
    <origin xyz="0 -0.00624 -0.1032" rpy="0 0 0"/>
    <parent link="right_shoulder_roll_link"/>
    <child link="right_shoulder_yaw_link"/>
    <axis xyz="0 0 1"/>
    <limit lower="-2.618" upper="2.618" effort="25" velocity="37"/>
  </joint>
  <link name="right_elbow_link">
    <inertial>
      <origin xyz="0.064956 -0.004454 -0.010062" rpy="0 0 0"/>
      <mass value="0.6"/>
      <inertia ixx="0.0002891" ixy="-6.53E-05" ixz="1.72E-05" iyy="0.0004152" iyz="5.6E-06" izz="0.0004197"/>
    </inertial>
    <visual>
      <origin xyz="0 0 0" rpy="0 0 0"/>
      <geometry>
        <mesh filename="meshes/right_elbow_link.STL"/>
      </geometry>
      <material name="white">
        <color rgba="0.7 0.7 0.7 1"/>
      </material>
    </visual>
    <collision>
      <origin xyz="0 0 0" rpy="0 0 0"/>
      <geometry>
        <mesh filename="meshes/right_elbow_link.STL"/>
      </geometry>
    </collision>
  </link>
  <joint name="right_elbow_joint" type="revolute">
    <origin xyz="0.015783 0 -0.080518" rpy="0 0 0"/>
    <parent link="right_shoulder_yaw_link"/>
    <child link="right_elbow_link"/>
    <axis xyz="0 1 0"/>
    <limit lower="-1.0472" upper="2.0944" effort="25" velocity="37"/>
  </joint>
  <joint name="right_wrist_roll_joint" type="revolute">
    <origin xyz="0.100 -0.00188791 -0.010" rpy="0 0 0"/>
    <axis xyz="1 0 0"/>
    <parent link="right_elbow_link"/>
    <child link="right_wrist_roll_link"/>
    <limit effort="25" velocity="37" lower="-1.972222054" upper="1.972222054"/>
  </joint>
  <link name="right_wrist_roll_link">
    <inertial>
      <origin xyz="0.01713944778 -0.00053759094 0.00000048864" rpy="0 0 0"/>
      <mass value="0.08544498"/>
      <inertia ixx="0.00004821544023" ixy="0.00000424511021" ixz="0.00000000510599" iyy="0.00003722899093" iyz="0.00000000123525" izz="0.00005482106541"/>
    </inertial>
    <visual>
      <origin xyz="0 0 0" rpy="0 0 0"/>
      <geometry>
        <mesh filename="meshes/right_wrist_roll_link.STL"/>
      </geometry>
      <material name="white">
        <color rgba="0.7 0.7 0.7 1"/>
      </material>
    </visual>
    <collision>
      <origin xyz="0 0 0" rpy="0 0 0"/>
      <geometry>
        <mesh filename="meshes/right_wrist_roll_link.STL"/>
      </geometry>
    </collision>
  </link>
  <joint name="right_wrist_pitch_joint" type="revolute">
    <origin xyz="0.038 0 0" rpy="0 0 0"/>
    <axis xyz="0 1 0"/>
    <parent link="right_wrist_roll_link"/>
    <child link="right_wrist_pitch_link"/>
    <limit effort="5" velocity="22" lower="-1.614429558" upper="1.614429558"/>
  </joint>
  <link name="right_wrist_pitch_link">
    <inertial>
      <origin xyz="0.02299989837 0.00111685314 -0.00111658096" rpy="0 0 0"/>
      <mass value="0.48404956"/>
      <inertia ixx="0.00016579646273" ixy="0.00001231206746" ixz="0.00001231699194" iyy="0.00042954057410" iyz="-0.00000081417712" izz="0.00042953697654"/>
    </inertial>
    <visual>
      <origin xyz="0 0 0" rpy="0 0 0"/>
      <geometry>
        <mesh filename="meshes/right_wrist_pitch_link.STL"/>
      </geometry>
      <material name="white">
        <color rgba="0.7 0.7 0.7 1"/>
      </material>
    </visual>
    <collision>
      <origin xyz="0 0 0" rpy="0 0 0"/>
      <geometry>
        <mesh filename="meshes/right_wrist_pitch_link.STL"/>
      </geometry>
    </collision>
  </link>
  <joint name="right_wrist_yaw_joint" type="revolute">
    <origin xyz="0.046 0 0" rpy="0 0 0"/>
    <axis xyz="0 0 1"/>
    <parent link="right_wrist_pitch_link"/>
    <child link="right_wrist_yaw_link"/>
    <limit effort="5" velocity="22" lower="-1.614429558" upper="1.614429558"/>
  </joint>
  <link name="right_wrist_yaw_link">
    <inertial>
      <origin xyz="0.02200381568 -0.00049485096 0.00053861123" rpy="0 0 0"/>
      <mass value="0.08457647"/>
      <inertia ixx="0.00004929128828" ixy="0.00000045735494" ixz="0.00000445867591" iyy="0.00005973338134" iyz="-0.00000043217198" izz="0.00003928083826"/>
    </inertial>
    <visual>
      <origin xyz="0 0 0" rpy="0 0 0"/>
      <geometry>
        <mesh filename="meshes/right_wrist_yaw_link.STL"/>
      </geometry>
      <material name="white">
        <color rgba="0.7 0.7 0.7 1"/>
      </material>
    </visual>
    <collision>
      <origin xyz="0 0 0" rpy="0 0 0"/>
      <geometry>
        <mesh filename="meshes/right_wrist_yaw_link.STL"/>
      </geometry>
    </collision>
  </link>
  <joint name="right_hand_palm_joint" type="fixed">
    <origin xyz="0.0415 -0.003 0" rpy="0 0 0"/>
    <parent link="right_wrist_yaw_link"/>
    <child link="right_hand_palm_link"/>
  </joint>
  <link name="right_hand_palm_link">
    <inertial>
      <origin xyz="0.06214634836 0.00050869656 -0.00058171093" rpy="0 0 0"/>
      <mass value="0.37283854"/>
      <inertia ixx="0.00027535181027" ixy="0.00001595519465" ixz="-0.00000242161890" iyy="0.00053951827219" iyz="0.00000042279435" izz="0.00039623390907"/>
    </inertial>
    <visual>
      <origin xyz="0 0 0" rpy="0 0 0"/>
      <geometry>
        <mesh filename="meshes/right_hand_palm_link.STL"/>
      </geometry>
      <material name="white">
        <color rgba="0.7 0.7 0.7 1"/>
      </material>
    </visual>
    <collision>
      <origin xyz="0 0 0" rpy="0 0 0"/>
      <geometry>
        <mesh filename="meshes/right_hand_palm_link.STL"/>
      </geometry>
    </collision>
  </link>
  <joint name="right_hand_thumb_0_joint" type="revolute">
    <origin xyz="0.0255 0 0" rpy="0 0 0"/>
    <axis xyz="0 1 0"/>
    <parent link="right_hand_palm_link"/>
    <child link="right_hand_thumb_0_link"/>
    <limit effort="2.45" velocity="6.857" lower="-1.04719755" upper="1.04719755"/>
  </joint>
  <link name="right_hand_thumb_0_link">
    <inertial>
      <origin xyz="-0.00088424580 0.00863407079 0.00094429336" rpy="0 0 0"/>
      <mass value="0.08623657"/>
      <inertia ixx="0.00001602919238" ixy="-0.00000010683177" ixz="0.00000016728875" iyy="0.00001451795012" iyz="0.00000051094752" izz="0.00001637877663"/>
    </inertial>
    <visual>
      <origin xyz="0 0 0" rpy="0 0 0"/>
      <geometry>
        <mesh filename="meshes/right_hand_thumb_0_link.STL"/>
      </geometry>
      <material name="white">
        <color rgba="0.7 0.7 0.7 1"/>
      </material>
    </visual>
    <collision>
      <origin xyz="0 0 0" rpy="0 0 0"/>
      <geometry>
        <mesh filename="meshes/right_hand_thumb_0_link.STL"/>
      </geometry>
    </collision>
  </link>
  <joint name="right_hand_thumb_1_joint" type="revolute">
    <origin xyz="-0.0025 0.0193 0" rpy="0 0 0"/>
    <axis xyz="0 0 1"/>
    <parent link="right_hand_thumb_0_link"/>
    <child link="right_hand_thumb_1_link"/>
    <limit effort="1.4" velocity="12" lower="-1.04719755" upper="0.72431163"/>
  </joint>
  <link name="right_hand_thumb_1_link">
    <inertial>
      <origin xyz="-0.00082788768 0.03547435774 -0.00038089960" rpy="0 0 0"/>
      <mass value="0.05885070"/>
      <inertia ixx="0.00001274699945" ixy="0.00000050770784" ixz="0.00000016088850" iyy="0.00000601573947" iyz="0.00000027839003" izz="0.00001234543582"/>
    </inertial>
    <visual>
      <origin xyz="0 0 0" rpy="0 0 0"/>
      <geometry>
        <mesh filename="meshes/right_hand_thumb_1_link.STL"/>
      </geometry>
      <material name="white">
        <color rgba="0.7 0.7 0.7 1"/>
      </material>
    </visual>
    <collision>
      <origin xyz="-0.001 0.032 0" rpy="0 0 0"/>
      <geometry>
        <box size="0.02 0.03 0.02"/>
      </geometry>
    </collision>
  </link>
  <joint name="right_hand_thumb_2_joint" type="revolute">
    <origin xyz="0 0.0458 0" rpy="0 0 0"/>
    <axis xyz="0 0 1"/>
    <parent link="right_hand_thumb_1_link"/>
    <child link="right_hand_thumb_2_link"/>
    <limit effort="1.4" velocity="12" lower="-1.74532925" upper="0"/>
  </joint>
  <link name="right_hand_thumb_2_link">
    <inertial>
      <origin xyz="-0.00171735242 0.02628192939 0.00010778879" rpy="0 0 0"/>
      <mass value="0.02030626"/>
      <inertia ixx="0.00000461267817" ixy="0.00000003422130" ixz="-0.00000000823881" iyy="0.00000153561368" iyz="0.00000002549885" izz="0.00000386625776"/>
    </inertial>
    <visual>
      <origin xyz="0 0 0" rpy="0 0 0"/>
      <geometry>
        <mesh filename="meshes/right_hand_thumb_2_link.STL"/>
      </geometry>
      <material name="white">
        <color rgba="0.7 0.7 0.7 1"/>
      </material>
    </visual>
    <collision>
      <origin xyz="0 0 0" rpy="0 0 0"/>
      <geometry>
        <mesh filename="meshes/right_hand_thumb_2_link.STL"/>
      </geometry>
    </collision>
  </link>
  <joint name="right_hand_middle_0_joint" type="revolute">
    <origin xyz="0.0777 -0.0016 -0.0285" rpy="0 0 0"/>
    <axis xyz="0 0 1"/>
    <parent link="right_hand_palm_link"/>
    <child link="right_hand_middle_0_link"/>
    <limit effort="1.4" velocity="12" lower="0" upper="1.57079632"/>
  </joint>
  <link name="right_hand_middle_0_link">
    <inertial>
      <origin xyz="0.03547435774 -0.00082788768 0.00038089960" rpy="0 0 0"/>
      <mass value="0.05885070"/>
      <inertia ixx="0.00000601573947" ixy="0.00000050770784" ixz="-0.00000027839003" iyy="0.00001274699945" iyz="-0.00000016088850" izz="0.00001234543582"/>
    </inertial>
    <visual>
      <origin xyz="0 0 0" rpy="0 0 0"/>
      <geometry>
        <mesh filename="meshes/right_hand_middle_0_link.STL"/>
      </geometry>
      <material name="white">
        <color rgba="0.7 0.7 0.7 1"/>
      </material>
    </visual>
    <collision>
      <origin xyz="0 0 0" rpy="0 0 0"/>
      <geometry>
        <mesh filename="meshes/right_hand_middle_0_link.STL"/>
      </geometry>
    </collision>
  </link>
  <joint name="right_hand_middle_1_joint" type="revolute">
    <origin xyz="0.0458 0 0" rpy="0 0 0"/>
    <axis xyz="0 0 1"/>
    <parent link="right_hand_middle_0_link"/>
    <child link="right_hand_middle_1_link"/>
    <limit effort="1.4" velocity="12" lower="0" upper="1.74532925"/>
  </joint>
  <link name="right_hand_middle_1_link">
    <inertial>
      <origin xyz="0.02628192939 -0.00171735242 -0.00010778879" rpy="0 0 0"/>
      <mass value="0.02030626"/>
      <inertia ixx="0.00000153561368" ixy="0.00000003422130" ixz="-0.00000002549885" iyy="0.00000461267817" iyz="0.00000000823881" izz="0.00000386625776"/>
    </inertial>
    <visual>
      <origin xyz="0 0 0" rpy="0 0 0"/>
      <geometry>
        <mesh filename="meshes/right_hand_middle_1_link.STL"/>
      </geometry>
      <material name="white">
        <color rgba="0.7 0.7 0.7 1"/>
      </material>
    </visual>
    <collision>
      <origin xyz="0 0 0" rpy="0 0 0"/>
      <geometry>
        <mesh filename="meshes/right_hand_middle_1_link.STL"/>
      </geometry>
    </collision>
  </link>
  <joint name="right_hand_index_0_joint" type="revolute">
    <origin xyz="0.0777 -0.0016 0.0285" rpy="0 0 0"/>
    <axis xyz="0 0 1"/>
    <parent link="right_hand_palm_link"/>
    <child link="right_hand_index_0_link"/>
    <limit effort="1.4" velocity="12" lower="0" upper="1.57079632"/>
  </joint>
  <link name="right_hand_index_0_link">
    <inertial>
      <origin xyz="0.03547435774 -0.00082788768 0.00038089960" rpy="0 0 0"/>
      <mass value="0.05885070"/>
      <inertia ixx="0.00000601573947" ixy="0.00000050770784" ixz="-0.00000027839003" iyy="0.00001274699945" iyz="-0.00000016088850" izz="0.00001234543582"/>
    </inertial>
    <visual>
      <origin xyz="0 0 0" rpy="0 0 0"/>
      <geometry>
        <mesh filename="meshes/right_hand_index_0_link.STL"/>
      </geometry>
      <material name="white">
        <color rgba="0.7 0.7 0.7 1"/>
      </material>
    </visual>
    <collision>
      <origin xyz="0 0 0" rpy="0 0 0"/>
      <geometry>
        <mesh filename="meshes/right_hand_index_0_link.STL"/>
      </geometry>
    </collision>
  </link>
  <joint name="right_hand_index_1_joint" type="revolute">
    <origin xyz="0.0458 0 0" rpy="0 0 0"/>
    <axis xyz="0 0 1"/>
    <parent link="right_hand_index_0_link"/>
    <child link="right_hand_index_1_link"/>
    <limit effort="1.4" velocity="12" lower="0" upper="1.74532925"/>
  </joint>
  <link name="right_hand_index_1_link">
    <inertial>
      <origin xyz="0.02628192939 -0.00171735242 -0.00010778879" rpy="0 0 0"/>
      <mass value="0.02030626"/>
      <inertia ixx="0.00000153561368" ixy="0.00000003422130" ixz="-0.00000002549885" iyy="0.00000461267817" iyz="0.00000000823881" izz="0.00000386625776"/>
    </inertial>
    <visual>
      <origin xyz="0 0 0" rpy="0 0 0"/>
      <geometry>
        <mesh filename="meshes/right_hand_index_1_link.STL"/>
      </geometry>
      <material name="white">
        <color rgba="0.7 0.7 0.7 1"/>
      </material>
    </visual>
    <collision>
      <origin xyz="0 0 0" rpy="0 0 0"/>
      <geometry>
        <mesh filename="meshes/right_hand_index_1_link.STL"/>
      </geometry>
    </collision>
  </link>
</robot>
